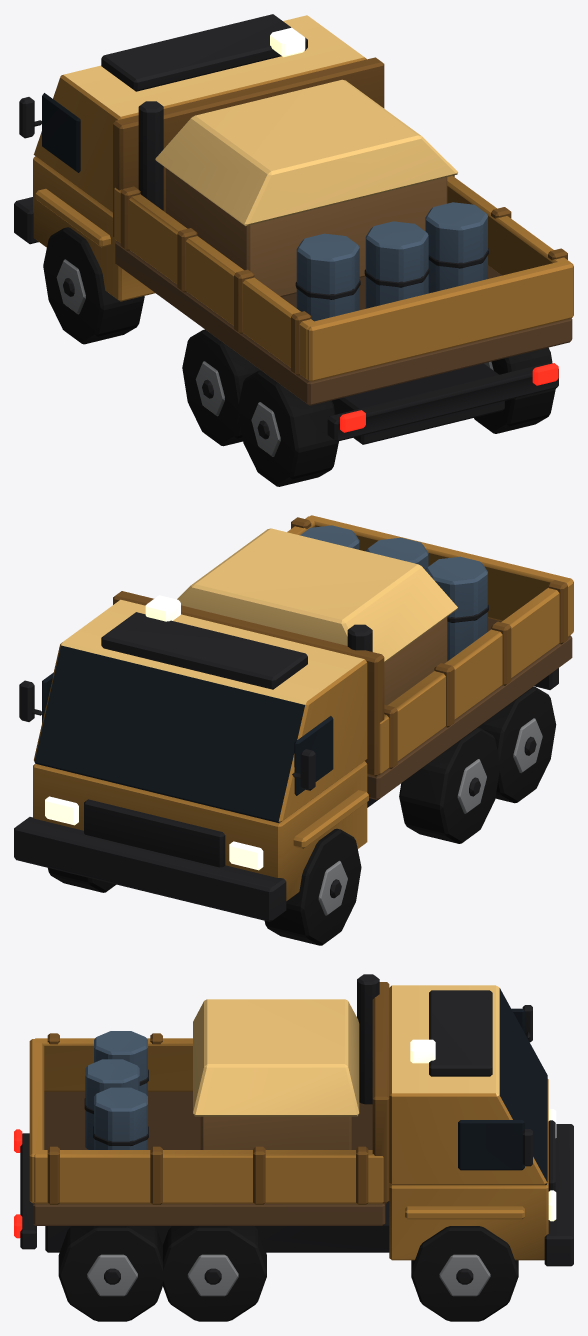
File: hauler.glb
The picture shows the model from 3 angles, top to bottom: view 1: azimuth 30°, elevation 25°; view 2: azimuth 150°, elevation 25°; view 3: azimuth 270°, elevation 25°; orthographic projection. The views are drawn at different scales.
Visible parts, largest first — view 1: hauler; view 2: hauler; view 3: hauler.
Boxes of the visible parts, x1,y1,x2,y2 form: hauler: (14, 14, 573, 486); hauler: (14, 515, 573, 945); hauler: (14, 974, 573, 1321).
Bounding box in the file's own units: 0.73 × 0.6536 × 1.34.
